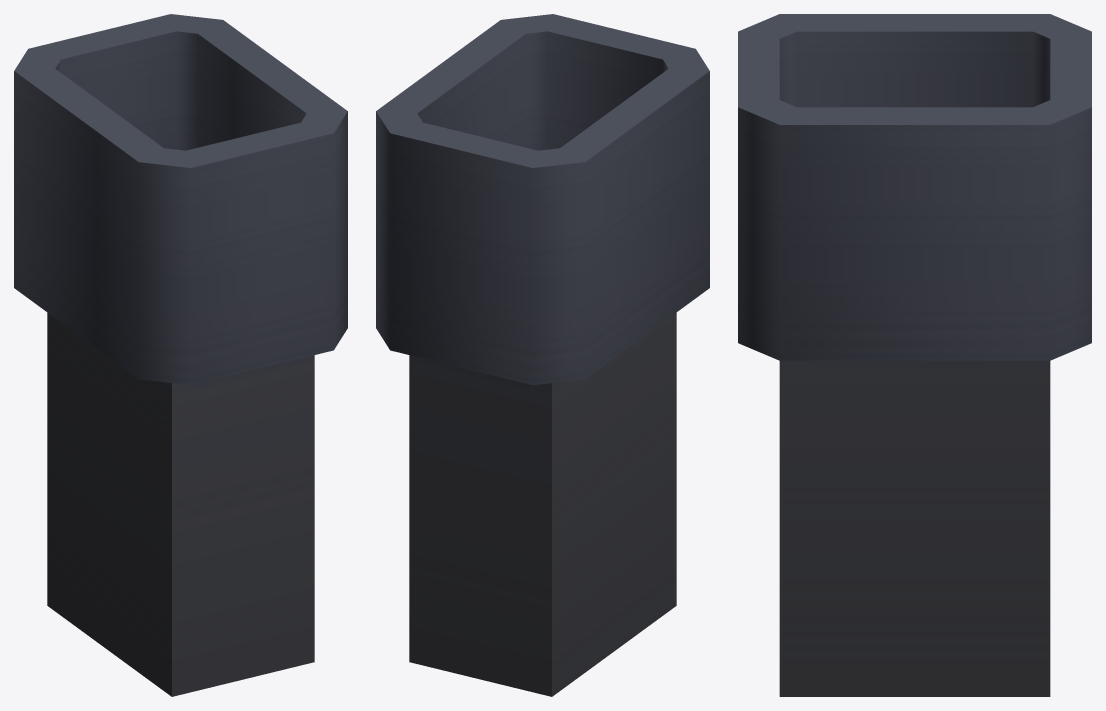
File: chimney-top.glb
3 renders of one model, left to right at view 1: azimuth 30°, elevation 25°; view 2: azimuth 150°, elevation 25°; view 3: azimuth 270°, elevation 25°, orthographic. The views are drawn at different scales.
Visible parts, largest first — view 1: chimney-top; view 2: chimney-top; view 3: chimney-top.
Boxes of the visible parts, x1=… form: chimney-top: x1=14, y1=14, x2=347, y2=696; chimney-top: x1=376, y1=14, x2=709, y2=696; chimney-top: x1=738, y1=14, x2=1091, y2=696.
Bounding box in the file's own units: 0.2519 × 0.625 × 0.34.
1 material, 1 textured.
